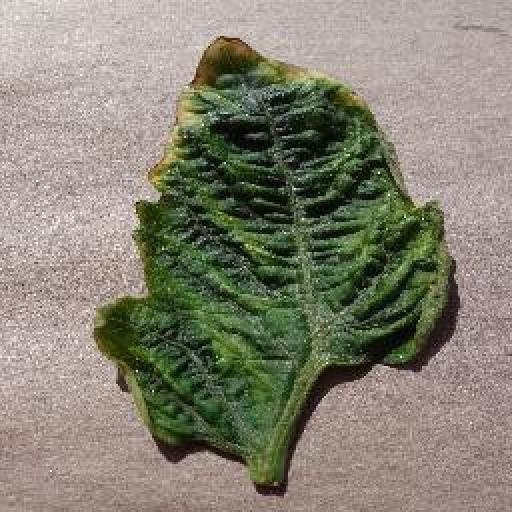Yellow Leaf Curl Virus: (89, 31, 452, 460)
